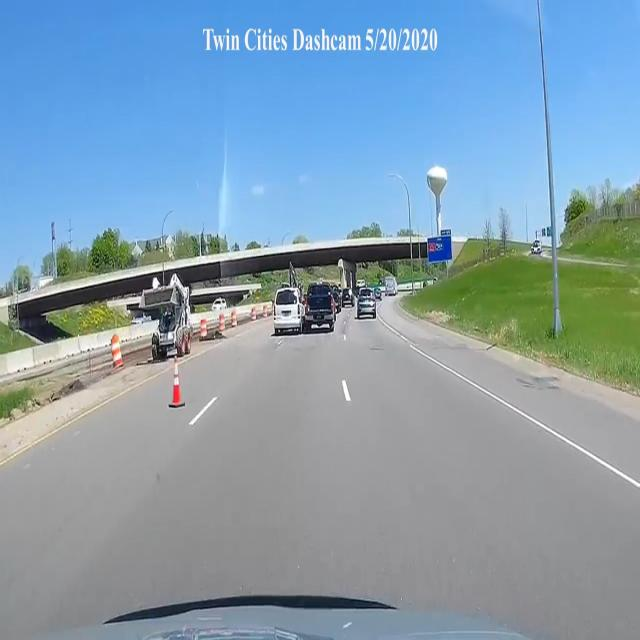cone: (168, 365, 188, 406)
